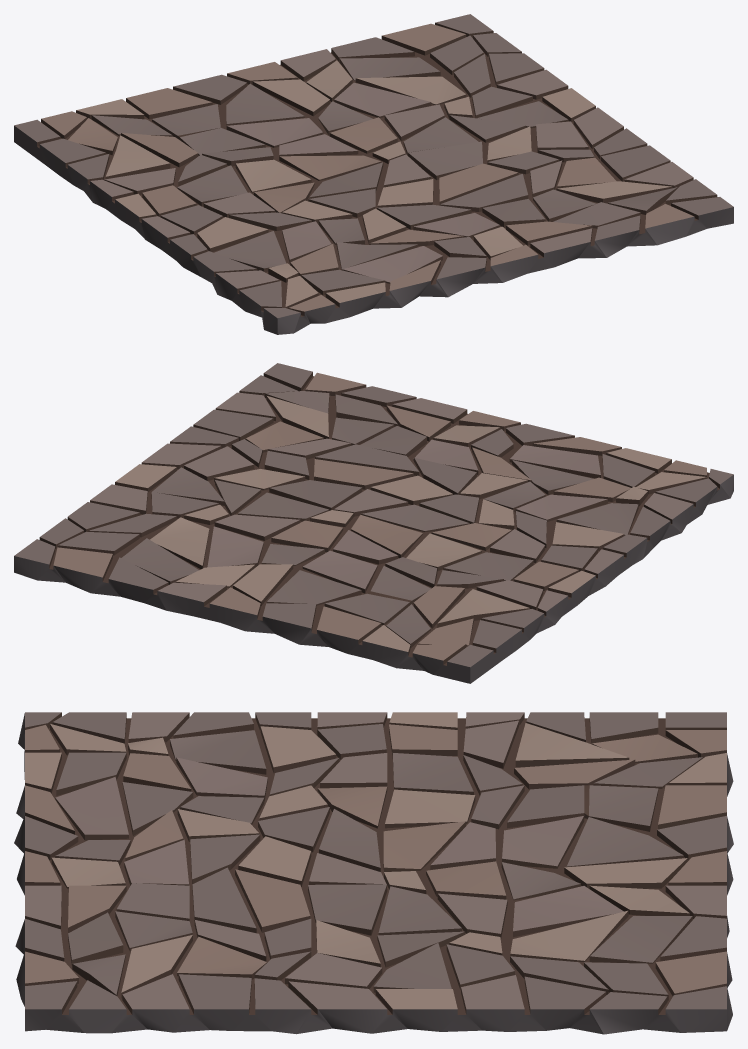
The model's file is exterior_ground.fbx.
3 renders of one model, top to bottom at view 1: azimuth 30°, elevation 25°; view 2: azimuth 150°, elevation 25°; view 3: azimuth 270°, elevation 25°, orthographic. The views are drawn at different scales.
Visible parts, largest first — view 1: ground_1; view 2: ground_1; view 3: ground_1.
Part boxes in pixels (x1=…): ground_1: x1=14, y1=14, x2=733, y2=334; ground_1: x1=14, y1=363, x2=733, y2=683; ground_1: x1=14, y1=712, x2=733, y2=1034.
Bounding box in the file's own units: 204 × 7.85 × 205.
